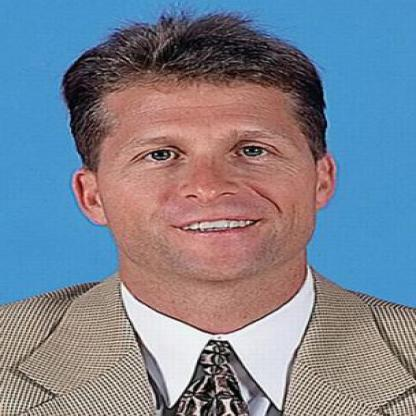face: (89, 31, 322, 285)
